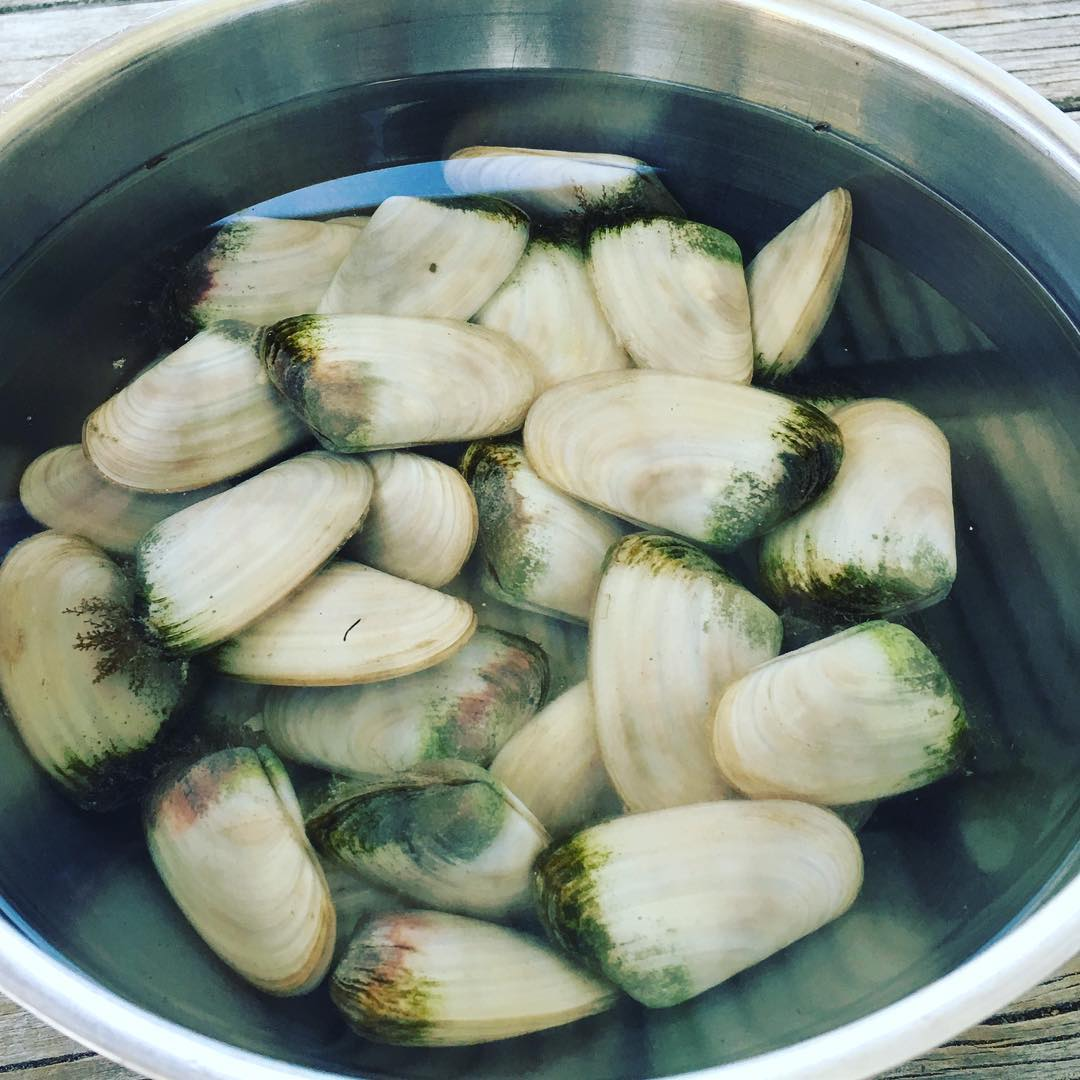tuatua: (528, 798, 873, 1009), (584, 522, 786, 827), (524, 368, 847, 557), (142, 733, 343, 1001), (128, 446, 376, 651), (712, 618, 976, 798), (766, 389, 964, 627), (5, 526, 167, 810), (326, 908, 621, 1049), (307, 756, 555, 919), (253, 640, 552, 775), (255, 310, 536, 449), (76, 319, 301, 487), (222, 557, 483, 689), (586, 199, 760, 381), (456, 439, 604, 640), (312, 191, 531, 322), (739, 181, 859, 385), (157, 212, 362, 322), (443, 141, 680, 222)
